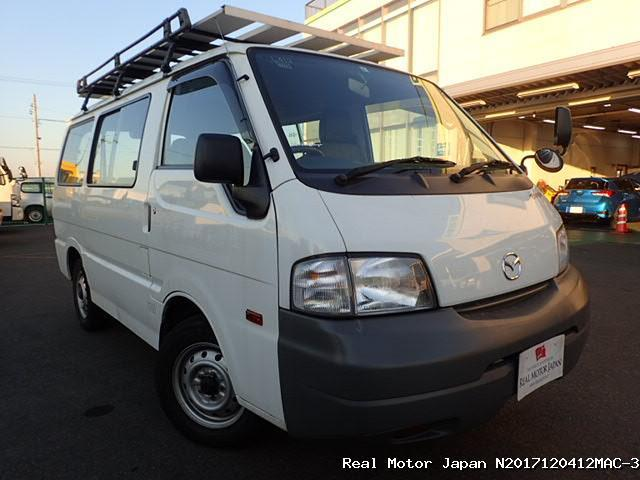Van: (48, 34, 592, 420)
